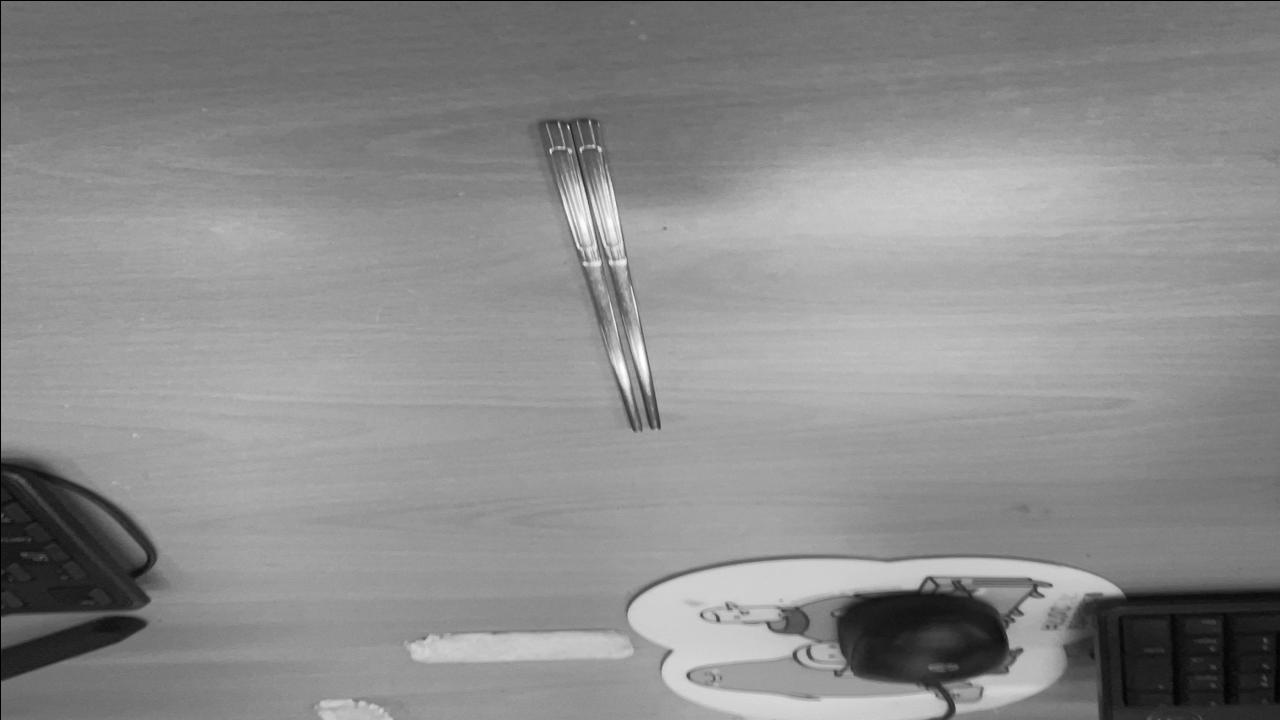chopstick: (534, 112, 668, 434)
